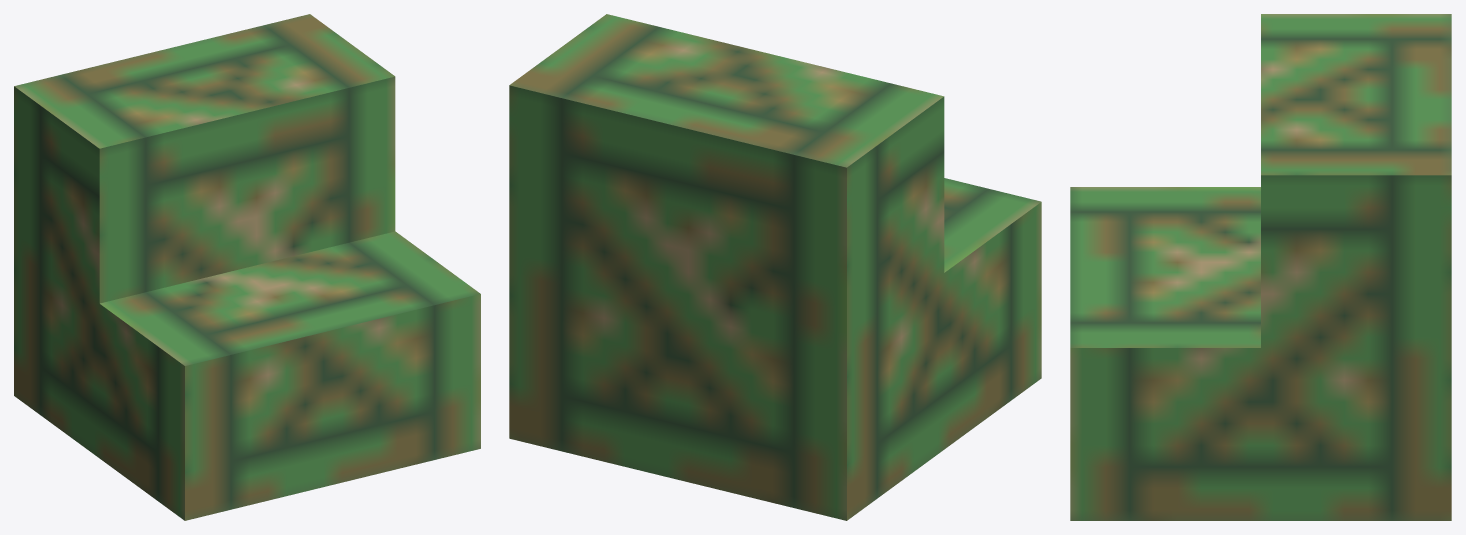
Rendered from cube-stairs-8px-gaps-16x16x16.obj.
3 renders of one model, left to right at view 1: azimuth 30°, elevation 25°; view 2: azimuth 150°, elevation 25°; view 3: azimuth 270°, elevation 25°, orthographic. The views are drawn at different scales.
Visible parts, largest first — view 1: Default; view 2: Default; view 3: Default.
Boxes of the visible parts, <box> form: Default: <box>14,14,480,520</box>; Default: <box>509,14,1041,520</box>; Default: <box>1070,14,1451,520</box>.
Bounding box in the file's own units: 1 × 1 × 1.
